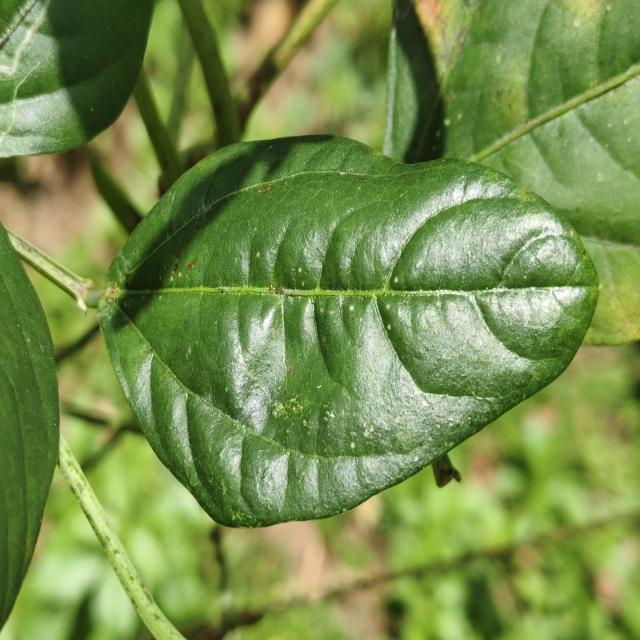leaf-low: (98, 136, 598, 526), (0, 0, 155, 158), (0, 223, 60, 628)
sitaw-aphid-high: (415, 0, 640, 345)
